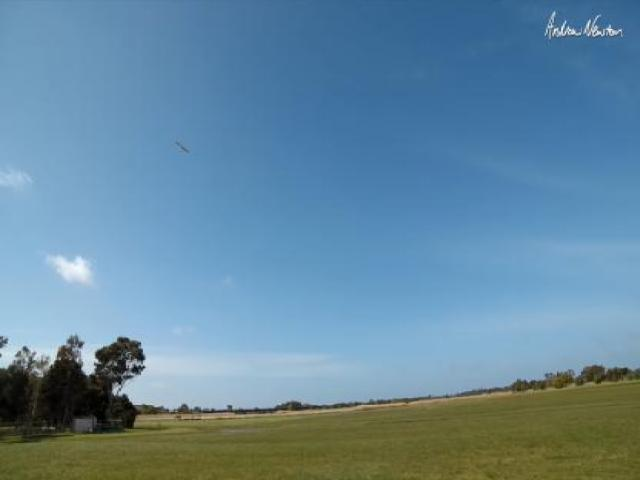uav: (172, 136, 193, 158)
